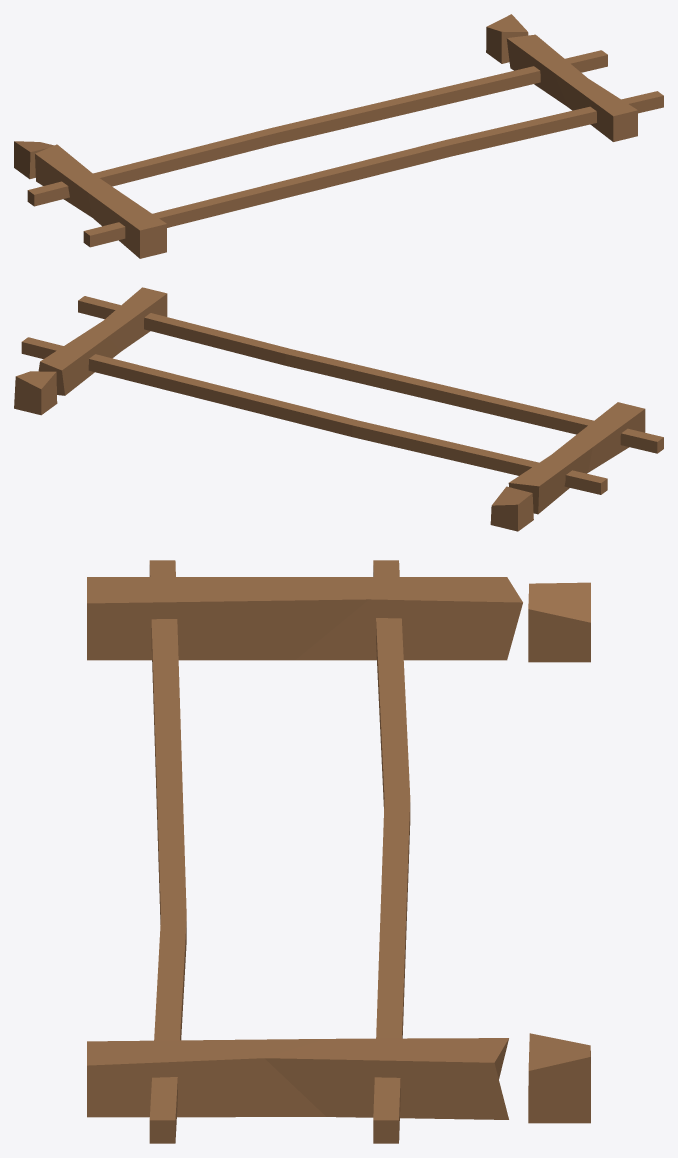
File: Fence_4 broken.fbx
The picture shows the model from 3 angles, top to bottom: view 1: azimuth 30°, elevation 25°; view 2: azimuth 150°, elevation 25°; view 3: azimuth 270°, elevation 25°; orthographic projection. The views are drawn at different scales.
Parts seen in each view (by area): view 1: Fence4Broken_mesh; view 2: Fence4Broken_mesh; view 3: Fence4Broken_mesh.
Boxes of the visible parts, x1,y1,x2,y2 form: Fence4Broken_mesh: (14, 14, 663, 258); Fence4Broken_mesh: (14, 287, 663, 531); Fence4Broken_mesh: (87, 560, 590, 1143).
Size of the model in its own units: 316 by 17.04 by 120.
